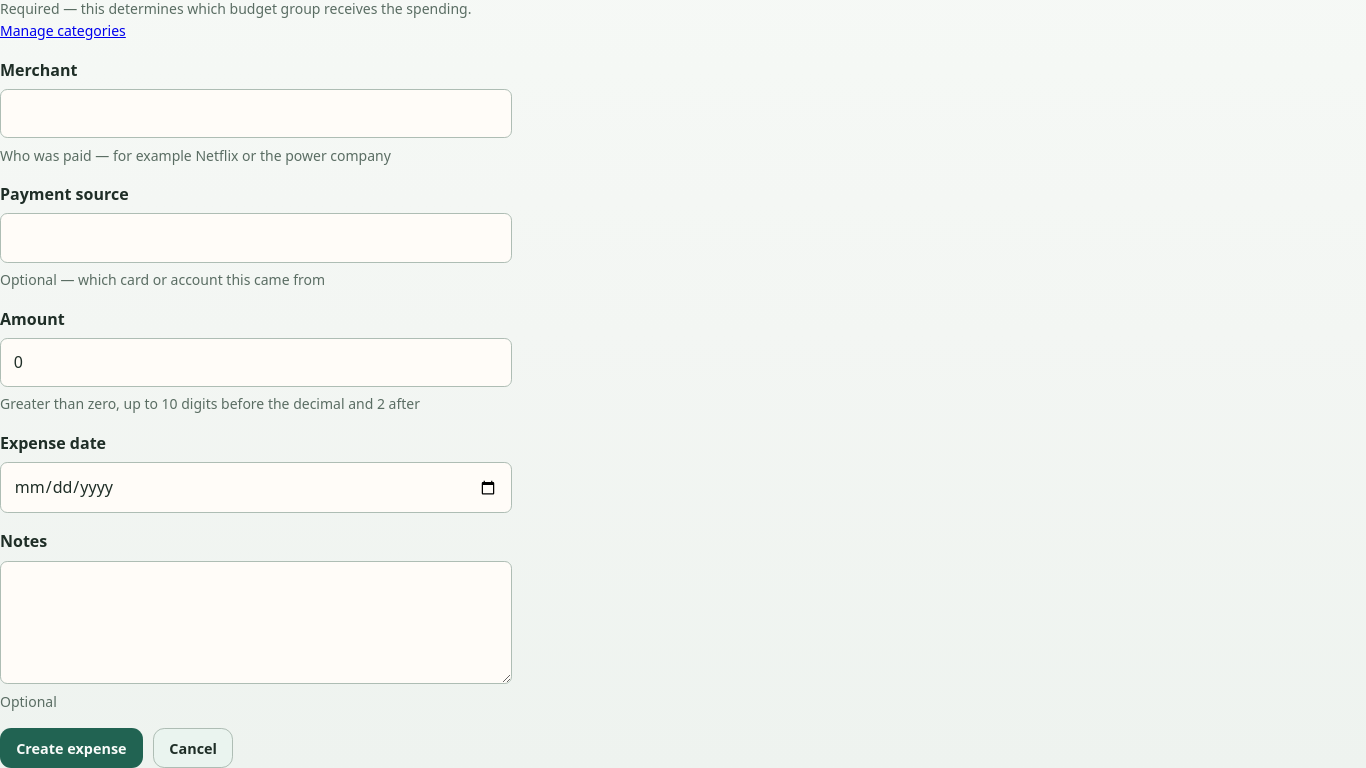
Test: ExpenseForm › rejects an invalid amount
(page scrolled)
Click the button "Create expense" at {"x": 71, "y": 748}, box [0,728,143,767]
(page scrolled)
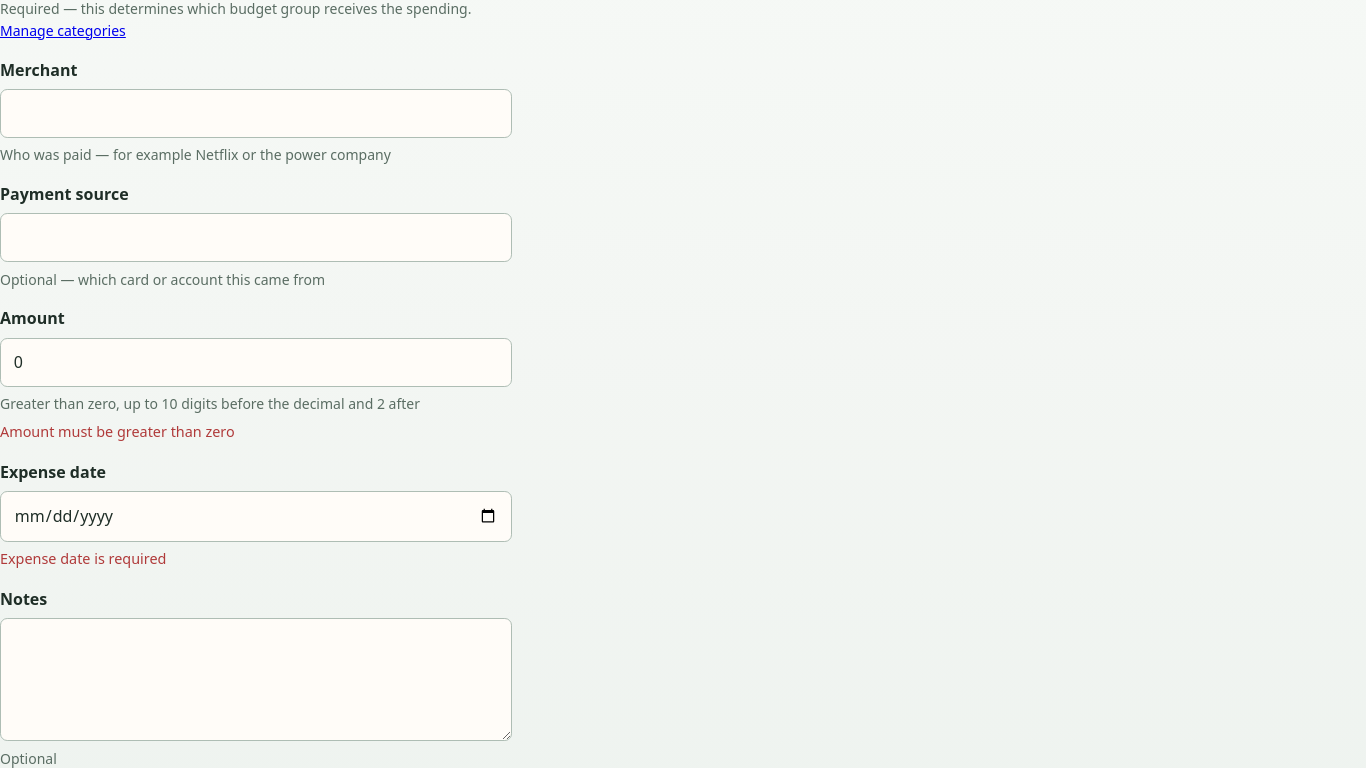
Now the text "Amount must be greater than zero" is shown, box [0,422,235,441]
